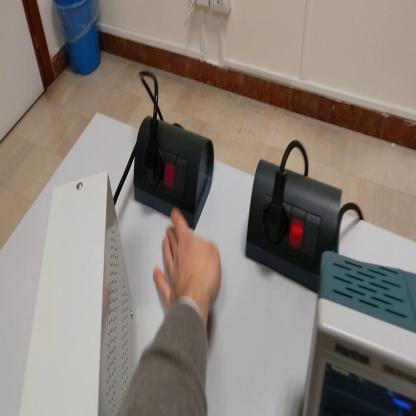hand: (157, 206, 224, 318)
oscilloscope: (301, 241, 416, 416)
power supply: (18, 180, 136, 416)
socket: (244, 159, 344, 295), (135, 114, 217, 229)
